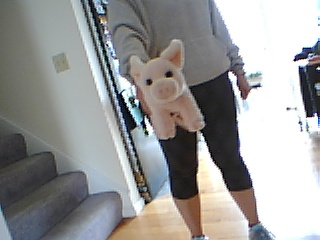piggy: (129, 38, 207, 141)
